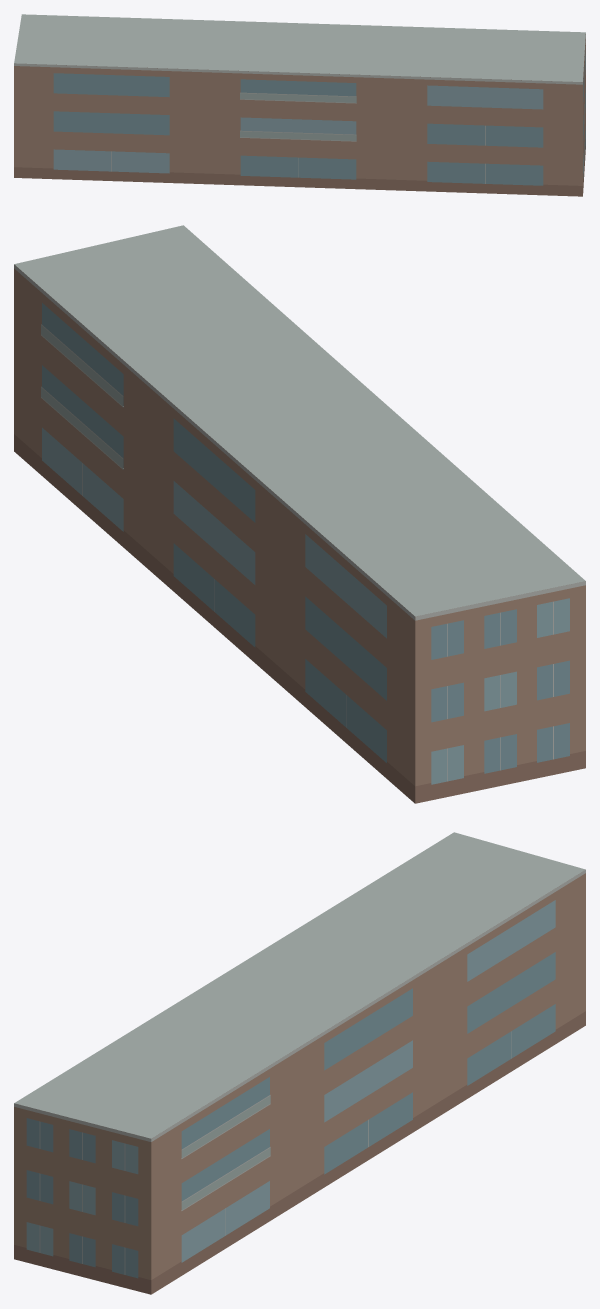
The model's file is survey-upis-32833747.glb.
3 renders of one model, top to bottom at view 1: azimuth 30°, elevation 25°; view 2: azimuth 150°, elevation 25°; view 3: azimuth 270°, elevation 25°, orthographic. The views are drawn at different scales.
Parts seen in each view (by area): view 1: survey-upis-32833747.tmp; view 2: survey-upis-32833747.tmp; view 3: survey-upis-32833747.tmp.
Boxes of the visible parts, box(x1,y1,x2,y2) form: survey-upis-32833747.tmp: box(14, 14, 585, 196); survey-upis-32833747.tmp: box(14, 225, 585, 803); survey-upis-32833747.tmp: box(14, 832, 585, 1294).
Bounding box in the file's own units: 45.93 × 10.9 × 36.22.
